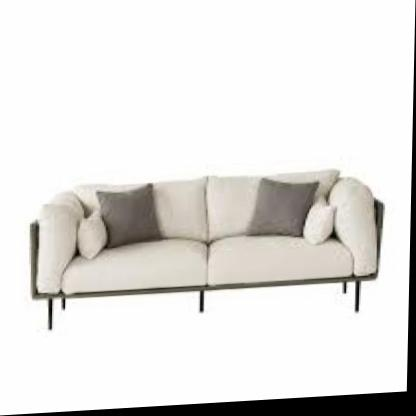Sofa: (2, 153, 409, 357)
